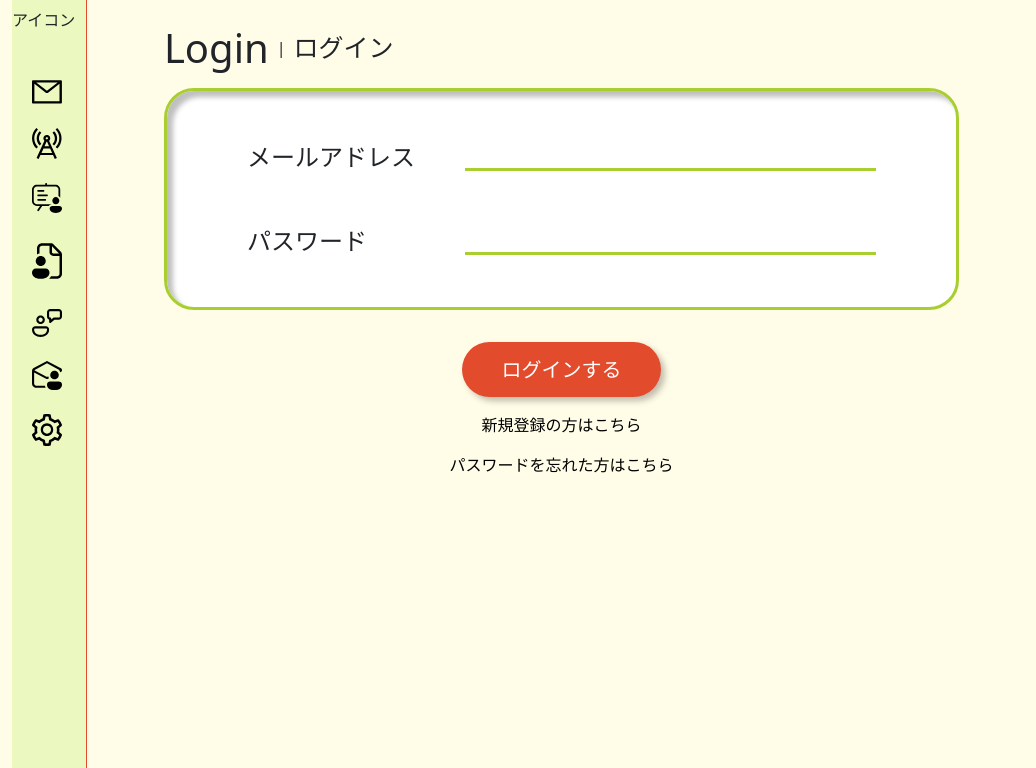
Test: ログイン › メールアドレスのフォーマットが異なっているとバリデーションメッセージが表示される
The width and height of the screenshot is (1036, 768).
In the field with test id "login-input-email": (670, 157) [465,143,876,171], type "test"
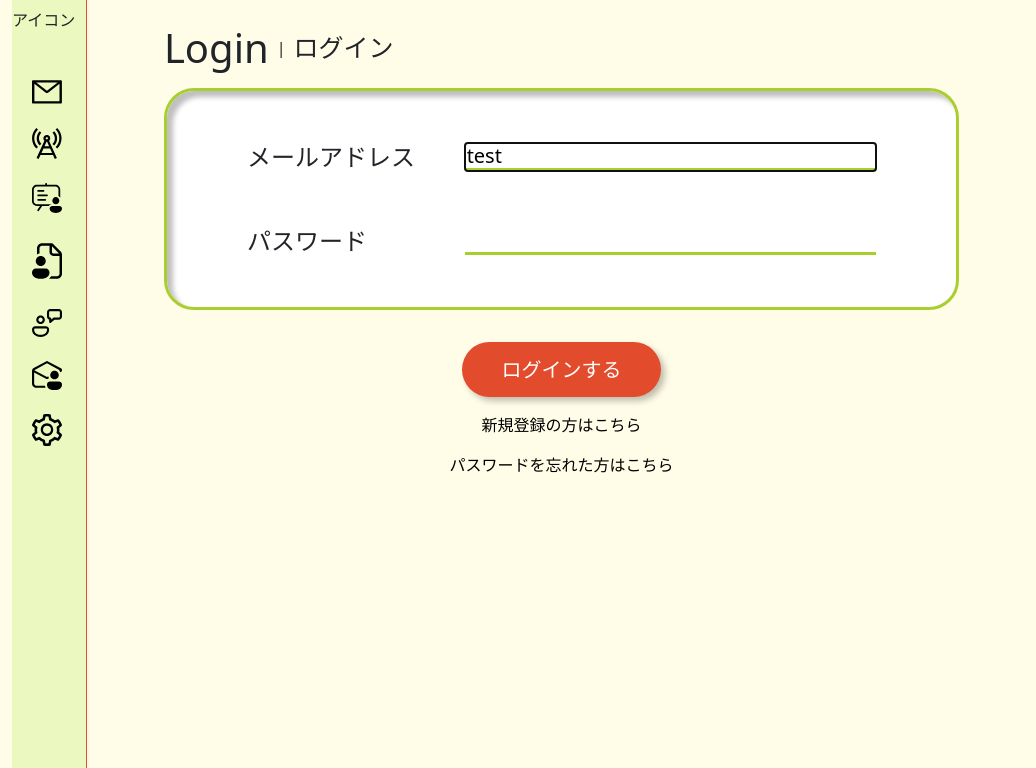
In the password field with test id "login-input-password": (670, 241) [465,227,876,255], type "passwordpassword"
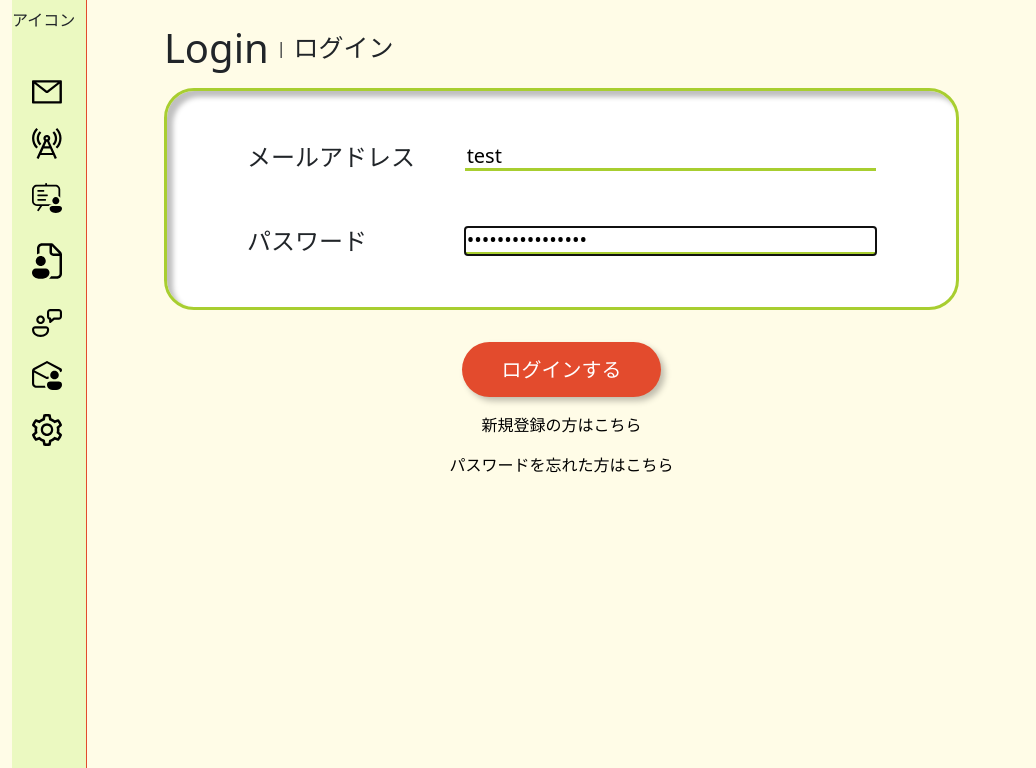
Click the button: (562, 370) [462,342,661,397]
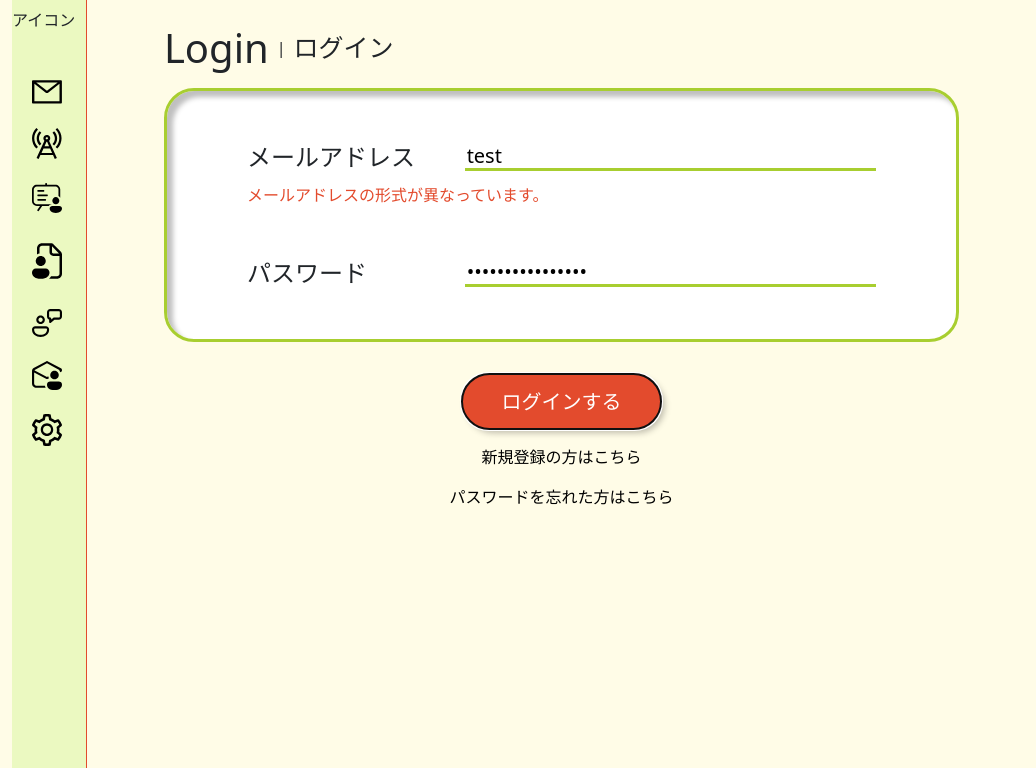
Now the text "メールアドレスの形式が異なっています。" is shown, box [247,184,548,206]
